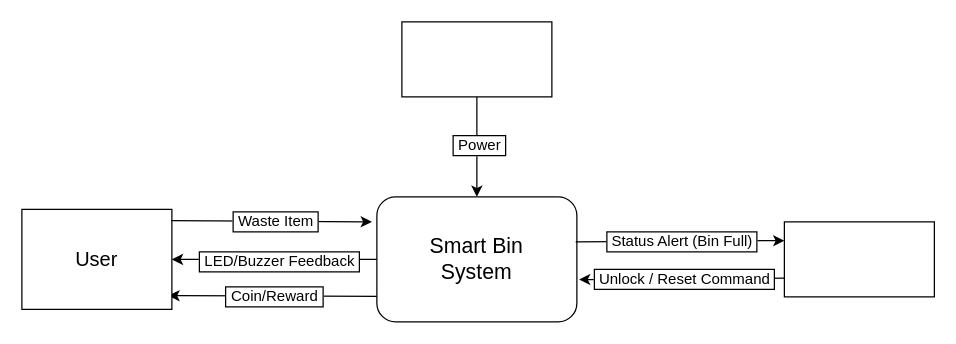
The diagram is 956 pixels wide and 344 high, and some of its shapes have lost their labels. Each missing label, with the centre of its shape:
"Maintenance Staff" belongs at pixel 858 259.
"Power Bank" belongs at pixel 476 59.
